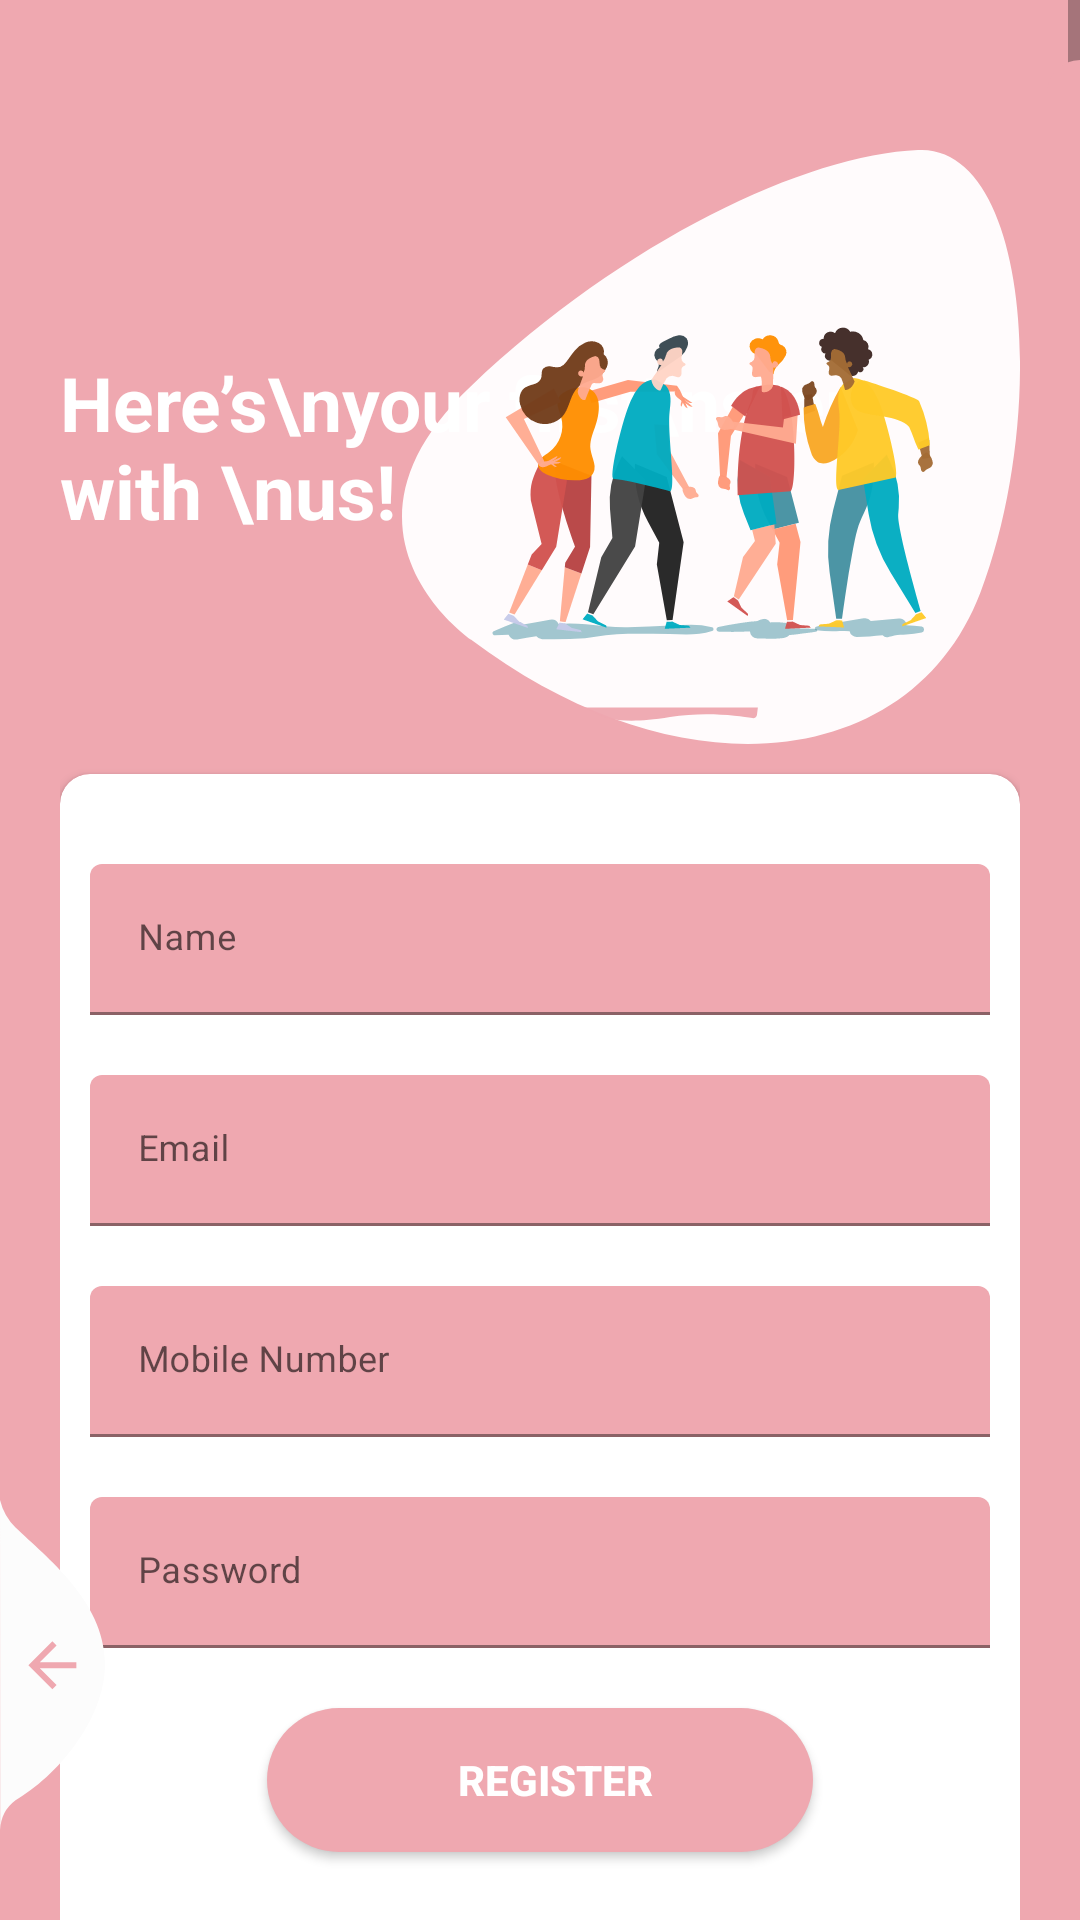

Named icons in this screenshot (1080 x 1920) and their centers, point (x, y):
back: point (52, 1665)
